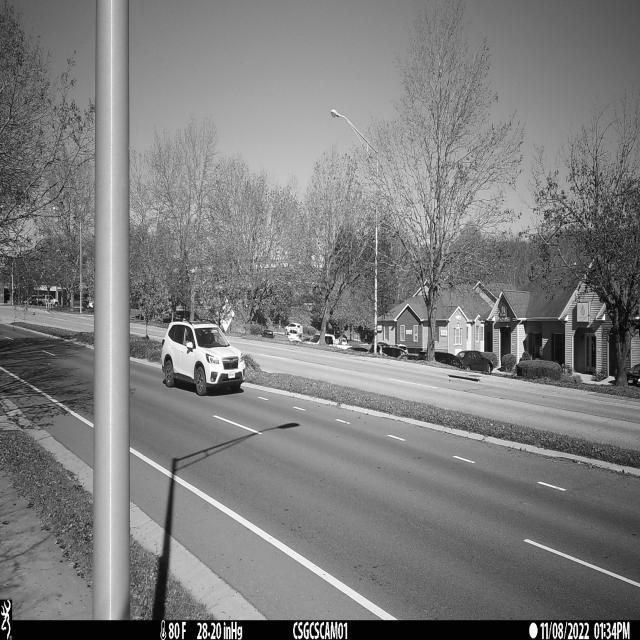SUV: (160, 322, 246, 398)
